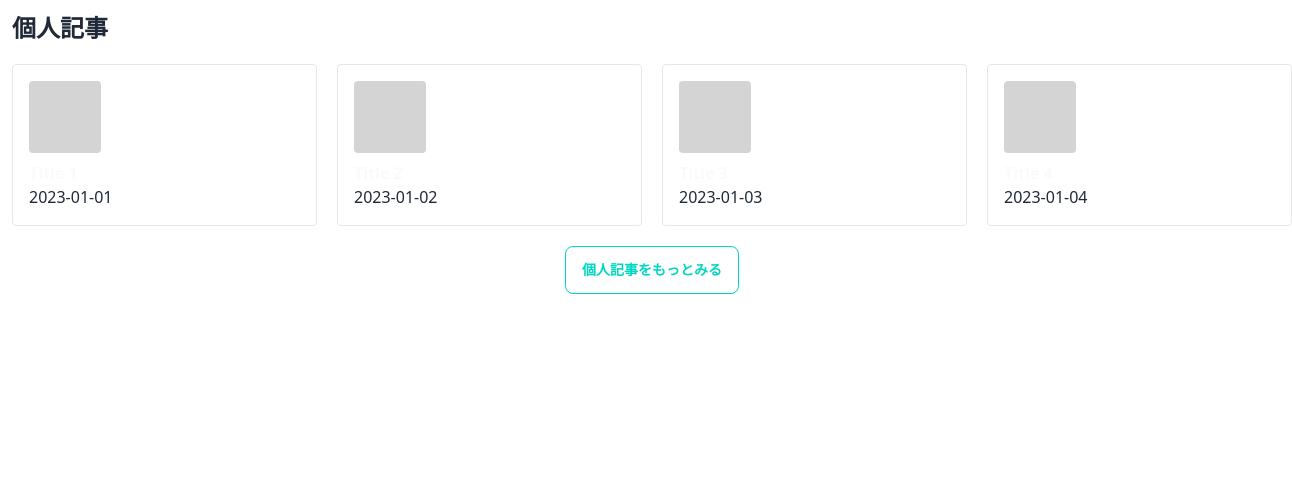
QiitaPageのテスト › もっとみるボタンを押したらQiita記事5つ表示される
Click the button "個人記事をもっとみる" at (652, 270), box [565, 246, 739, 294]
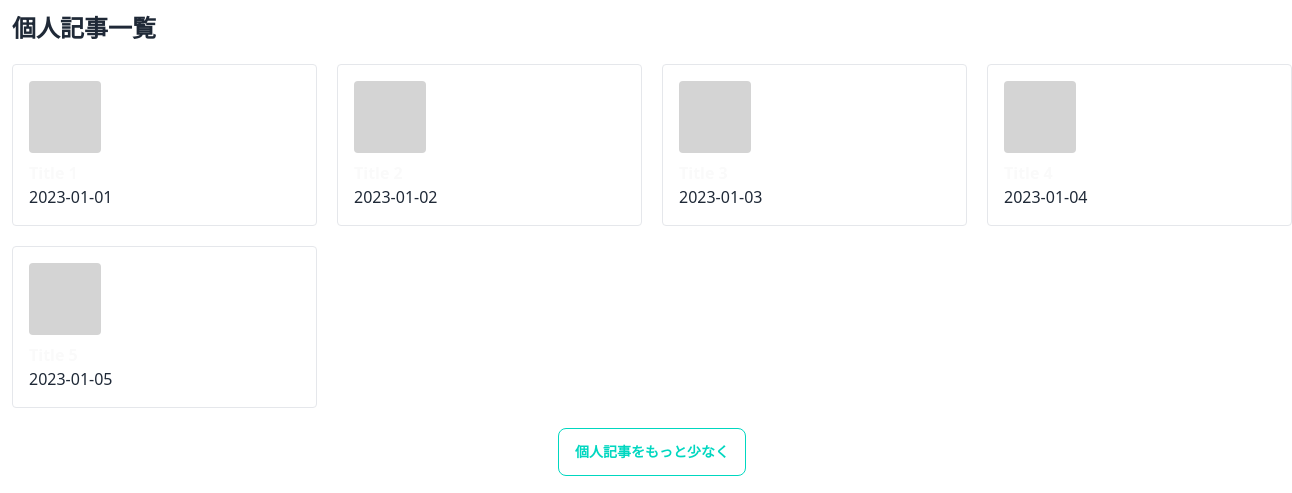
Now the number of list items is 5, box [12, 64, 317, 226]; [337, 64, 642, 226]; [662, 64, 967, 226]; [987, 64, 1291, 226]; [12, 246, 317, 408]
